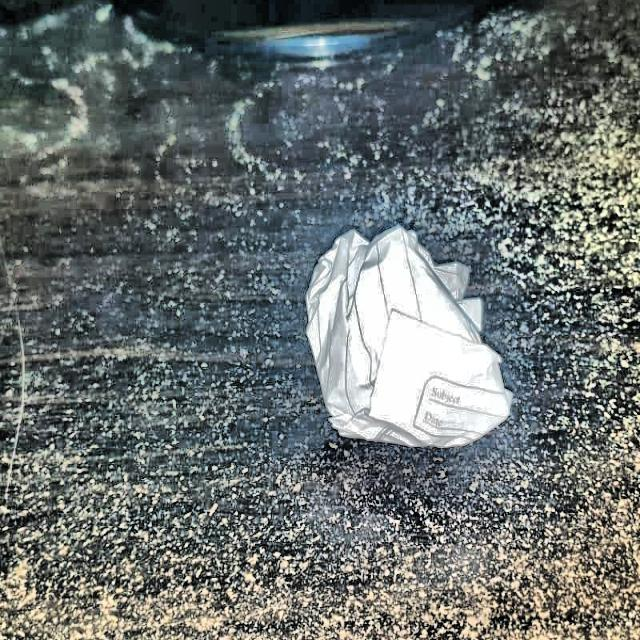paper: (309, 225, 522, 462)
